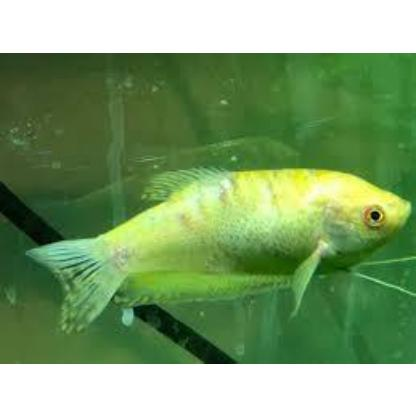gurame: (46, 168, 410, 326)
